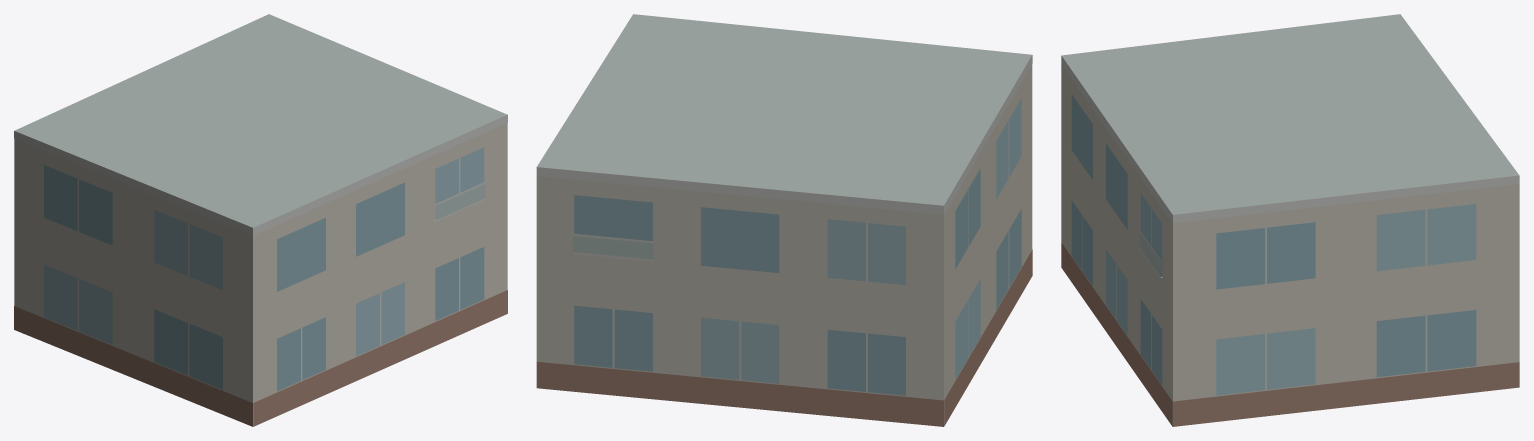
Rendered from survey-upis-32951332.glb.
3 views of the same model, side by side, from view 1: azimuth 30°, elevation 25°; view 2: azimuth 150°, elevation 25°; view 3: azimuth 270°, elevation 25° (orthographic). The views are drawn at different scales.
Parts seen in each view (by area): view 1: survey-upis-32951332.tmp; view 2: survey-upis-32951332.tmp; view 3: survey-upis-32951332.tmp.
Boxes of the visible parts, x1,y1,x2,y2 form: survey-upis-32951332.tmp: (14, 14, 507, 426); survey-upis-32951332.tmp: (536, 14, 1032, 426); survey-upis-32951332.tmp: (1061, 14, 1519, 426).
Bounding box in the file's own units: 12.41 × 6.1 × 11.96.
